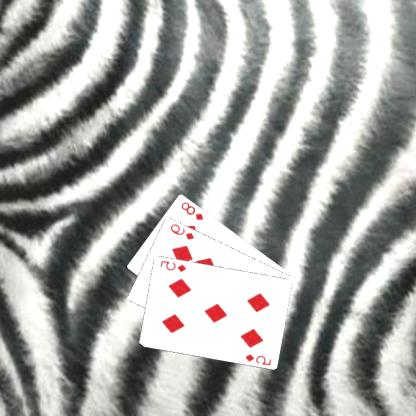5D: (159, 258, 189, 273), (244, 351, 274, 366)
8D: (180, 198, 207, 221)
9D: (169, 220, 197, 241)
